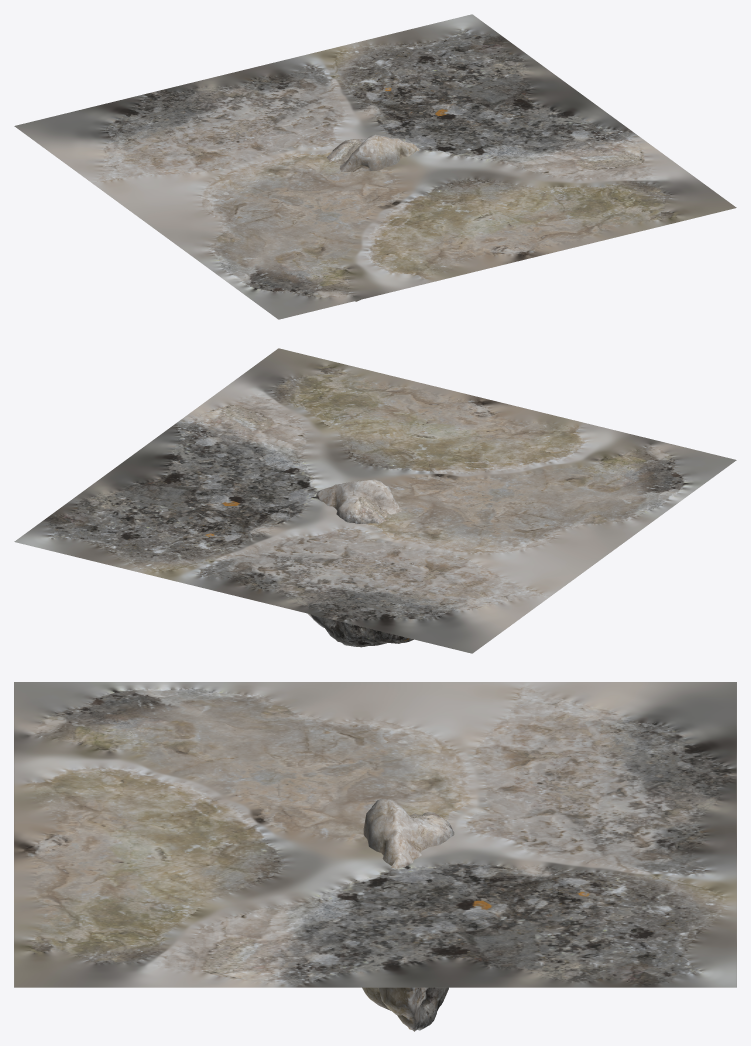
3 renders of one model, top to bottom at view 1: azimuth 30°, elevation 25°; view 2: azimuth 150°, elevation 25°; view 3: azimuth 270°, elevation 25°, orthographic. The views are drawn at different scales.
Visible parts, largest first — view 1: Plane, Rock; view 2: Plane, Rock; view 3: Plane, Rock.
Part boxes in pixels (x1=…): Plane: x1=14, y1=14, x2=736, y2=319; Rock: x1=327, y1=134, x2=418, y2=301; Plane: x1=14, y1=348, x2=736, y2=653; Rock: x1=308, y1=479, x2=413, y2=647; Plane: x1=14, y1=682, x2=736, y2=987; Rock: x1=362, y1=798, x2=454, y2=1031.
Size of the model in its own units: 981 by 325 by 981.
